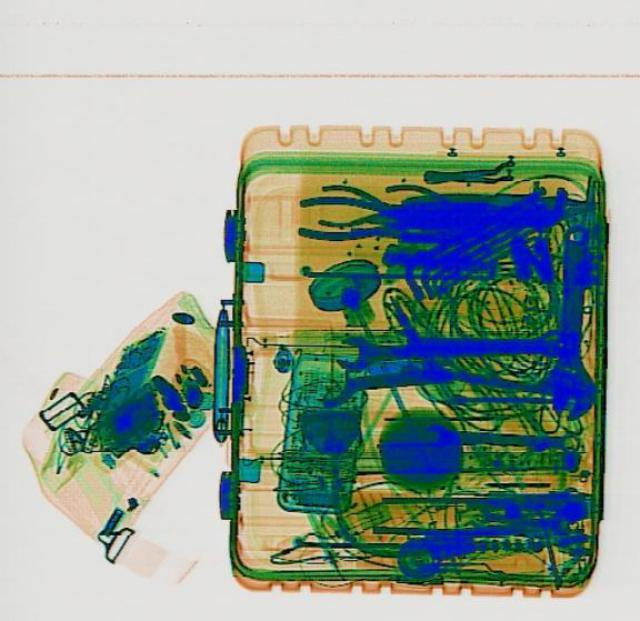Pliers: (296, 191, 428, 240)
Wrench: (333, 322, 564, 370), (542, 224, 598, 419)
